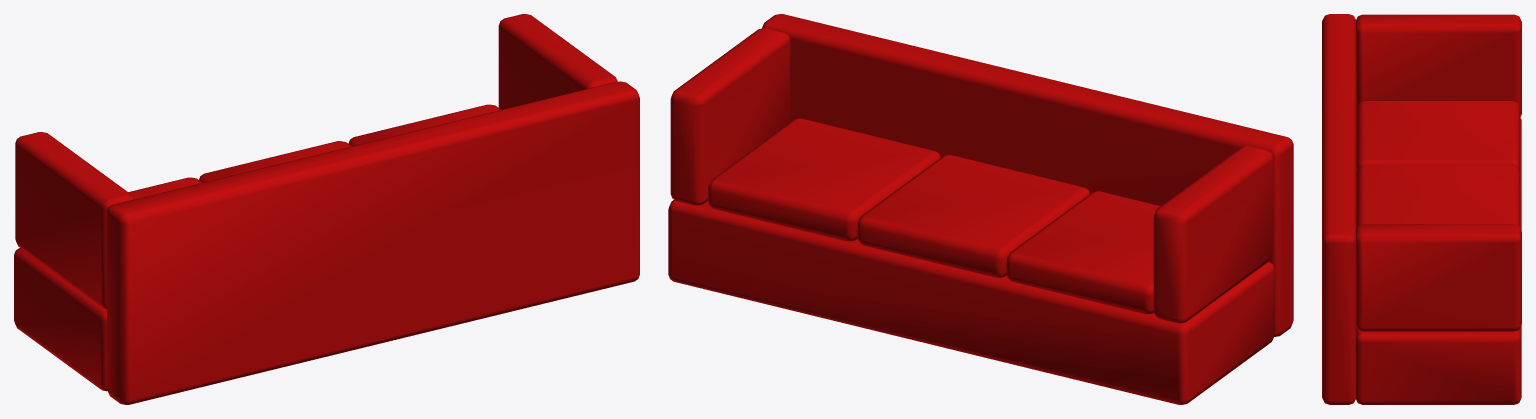
Rendered from sofa1.obj.
The picture shows the model from 3 angles, left to right: view 1: azimuth 30°, elevation 25°; view 2: azimuth 150°, elevation 25°; view 3: azimuth 270°, elevation 25°; orthographic projection. The views are drawn at different scales.
Parts seen in each view (by area): view 1: sofa1; view 2: sofa1; view 3: sofa1.
Boxes of the visible parts, x1,y1,x2,y2 form: sofa1: (14,14,639,404); sofa1: (668,14,1293,404); sofa1: (1322,14,1521,404).
Size of the model in its own units: 2.21 by 0.7803 by 0.8256.
